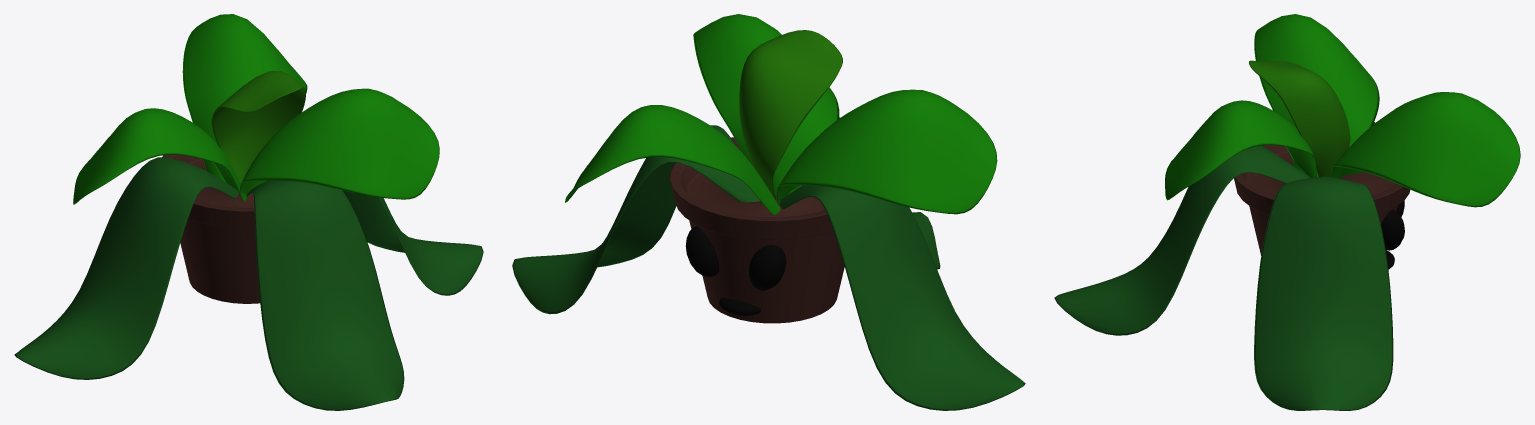
The model's file is Project01_PlantMimic_2.fbx.
3 views of the same model, side by side, from view 1: azimuth 30°, elevation 25°; view 2: azimuth 150°, elevation 25°; view 3: azimuth 270°, elevation 25° (orthographic). The views are drawn at different scales.
Parts seen in each view (by area): view 1: Plane.002, Plane, Plane.005, pot, Plane.004, Plane.003, Plane.006, Plane.001; view 2: Plane, Plane.003, pot, Plane.001, Plane.006, Plane.004, Plane.005, Plane.002; view 3: Plane.001, Plane.004, Plane.002, Plane.003, Plane.005, Plane.006, pot.
Part boxes in pixels (x1,y1,x2,y2): Plane.002: [246, 180, 404, 410]; Plane: [14, 157, 238, 379]; Plane.005: [240, 88, 439, 200]; pot: [162, 154, 260, 303]; Plane.004: [182, 14, 307, 181]; Plane.003: [73, 108, 246, 204]; Plane.006: [211, 71, 305, 183]; Plane.001: [267, 180, 483, 295]; Plane: [779, 185, 1025, 410]; Plane.003: [776, 89, 997, 214]; pot: [669, 137, 844, 323]; Plane.001: [512, 125, 760, 314]; Plane.006: [739, 30, 842, 200]; Plane.004: [565, 105, 780, 215]; Plane.005: [693, 14, 839, 195]; Plane.002: [775, 117, 940, 269]; Plane.001: [1254, 176, 1393, 410]; Plane.004: [1332, 92, 1520, 207]; Plane.002: [1054, 145, 1310, 335]; Plane.003: [1254, 14, 1379, 176]; Plane.005: [1165, 100, 1317, 200]; Plane.006: [1249, 60, 1350, 177]; pot: [1234, 145, 1410, 269].
Size of the model in its own units: 910 by 472 by 801.
